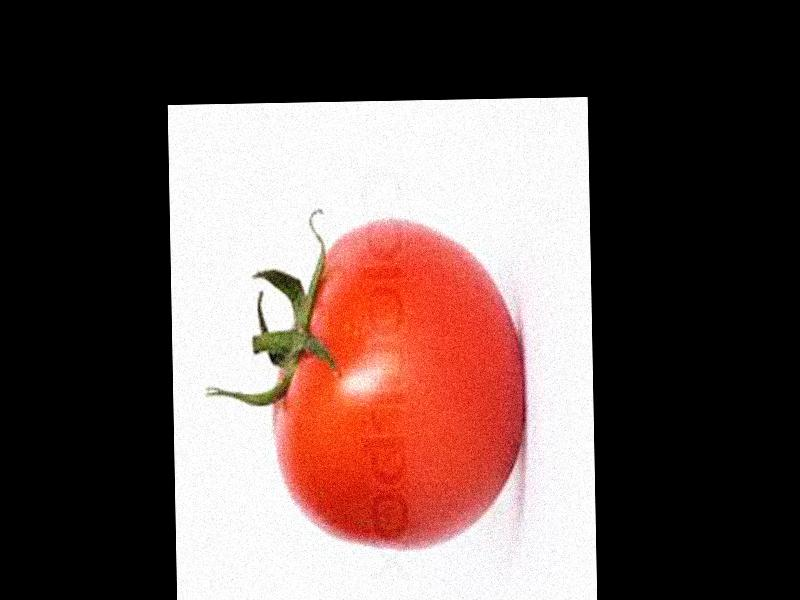Tomato: (268, 220, 523, 551)
